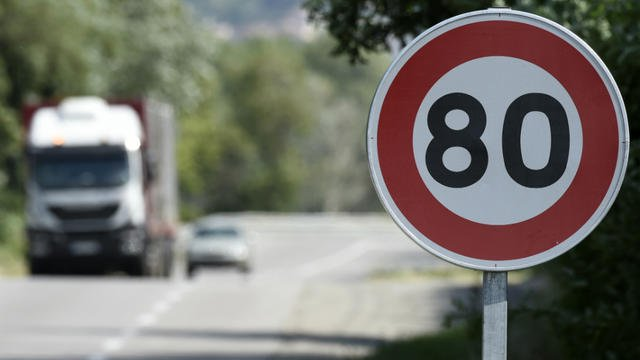Speed_limit_80km: (367, 11, 626, 271)
